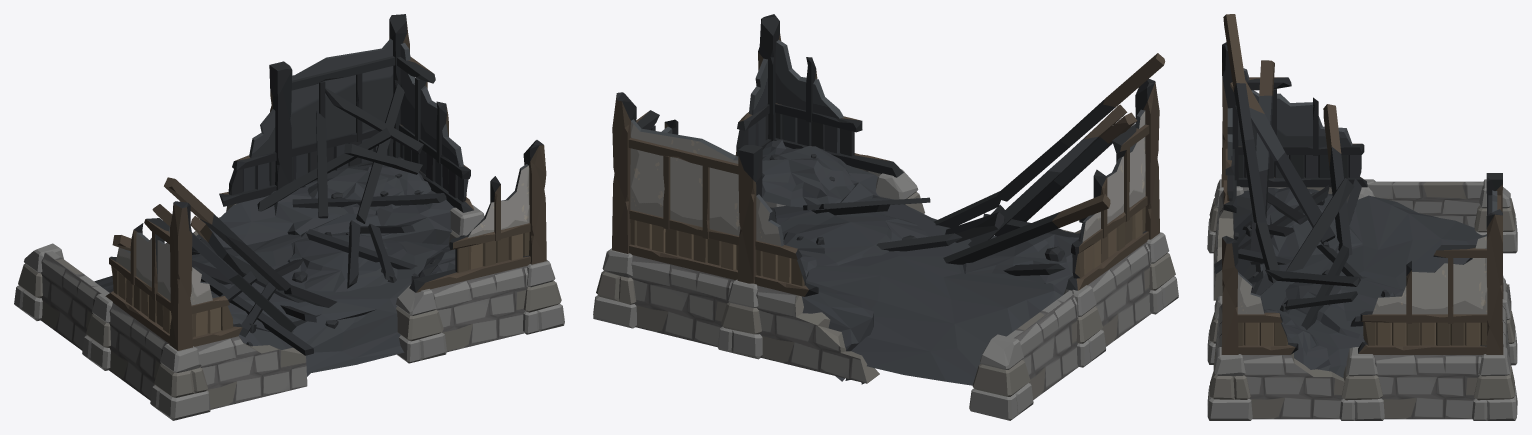
File: bld_house_ruin2.gltf
3 views of the same model, side by side, from view 1: azimuth 30°, elevation 25°; view 2: azimuth 150°, elevation 25°; view 3: azimuth 270°, elevation 25° (orthographic). The views are drawn at different scales.
Visible parts, largest first — view 1: bld_house_ruin2; view 2: bld_house_ruin2; view 3: bld_house_ruin2.
Part boxes in pixels (x1=…): bld_house_ruin2: x1=14, y1=14, x2=564, y2=420; bld_house_ruin2: x1=593, y1=14, x2=1178, y2=420; bld_house_ruin2: x1=1207, y1=14, x2=1517, y2=420.
Bounding box in the file's own units: 8.36 × 5.16 × 5.86.
1 material, 1 textured.
